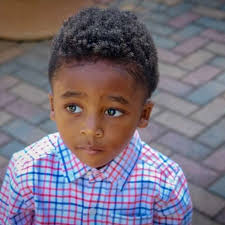person: (47, 6, 157, 169)
